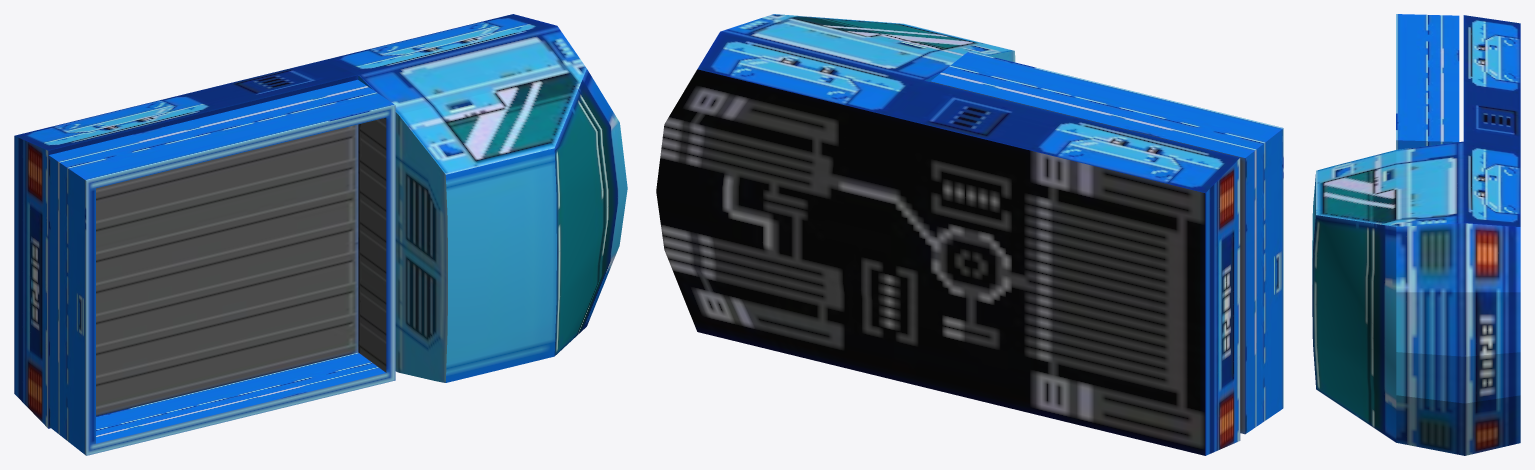
The model's file is truck.glb.
The picture shows the model from 3 angles, left to right: view 1: azimuth 30°, elevation 25°; view 2: azimuth 150°, elevation 25°; view 3: azimuth 270°, elevation 25°; orthographic projection. The views are drawn at different scales.
Visible parts, largest first — view 1: truck_bed, truck; view 2: truck, truck_bed; view 3: truck, truck_bed.
Part boxes in pixels (left/top/right/bottom): truck_bed: left=48, top=79, right=395, bottom=455; truck: left=14, top=14, right=627, bottom=428; truck: left=656, top=14, right=1240, bottom=455; truck_bed: left=930, top=51, right=1283, bottom=434; truck: left=1312, top=15, right=1520, bottom=455; truck_bed: left=1396, top=14, right=1459, bottom=149.
Bounding box in the file's own units: 56.71 × 27.28 × 22.13.
Materials: 2 (2 with a texture image).
